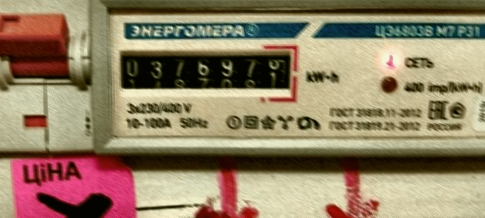0: (123, 57, 137, 77)
1: (266, 69, 277, 88)
3: (147, 58, 161, 78)
6: (194, 55, 208, 76)
7: (170, 56, 184, 77), (242, 56, 255, 78)
9: (218, 56, 231, 77)
screen: (110, 39, 301, 105)
